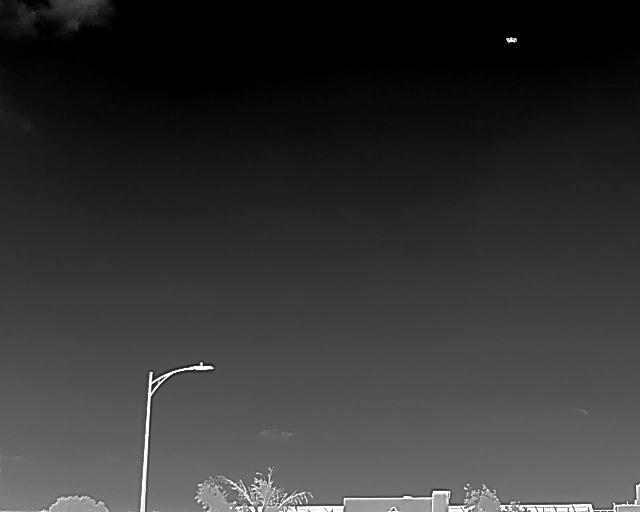fpv-drone: (506, 37, 516, 43)
